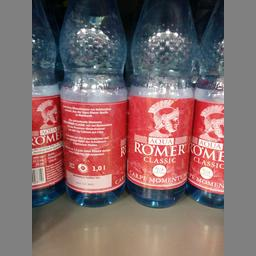water: (126, 0, 196, 207), (58, 0, 127, 207), (182, 0, 223, 207), (31, 0, 63, 209)
